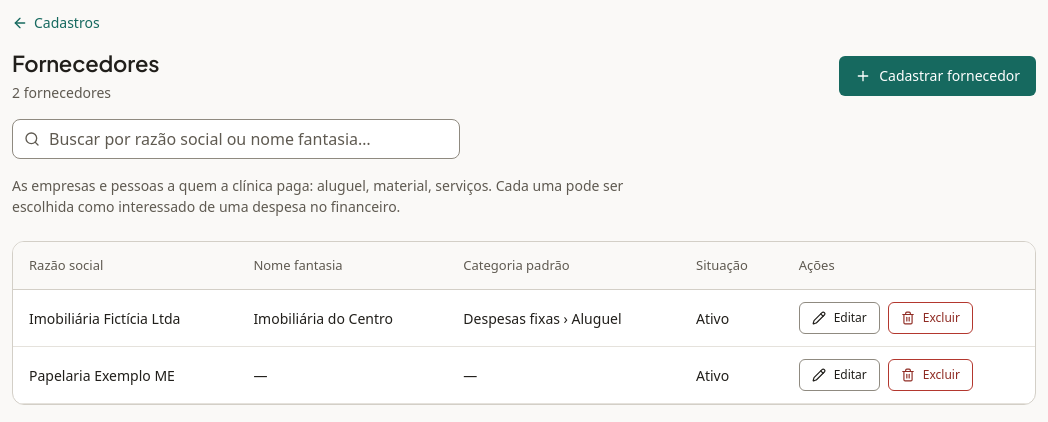
Fornecedores — a lista › deve buscar no servidor pelo termo digitado
Type "imob" into the search field named "Buscar fornecedor" at {"x": 236, "y": 139}, box [12,119,460,159]
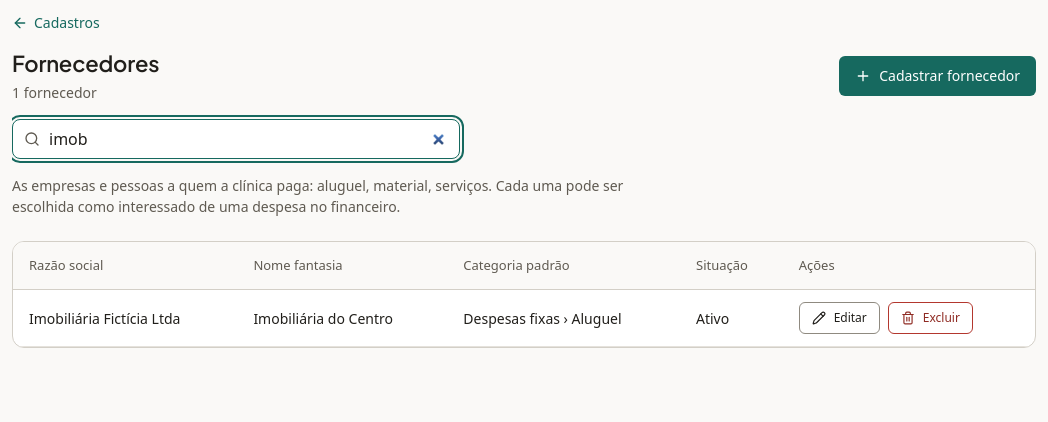
Expected: the cell "Imobiliária Fictícia Ltda" is shown, [13,290,237,347]
Expected: the cell "Papelaria Exemplo ME" is gone
